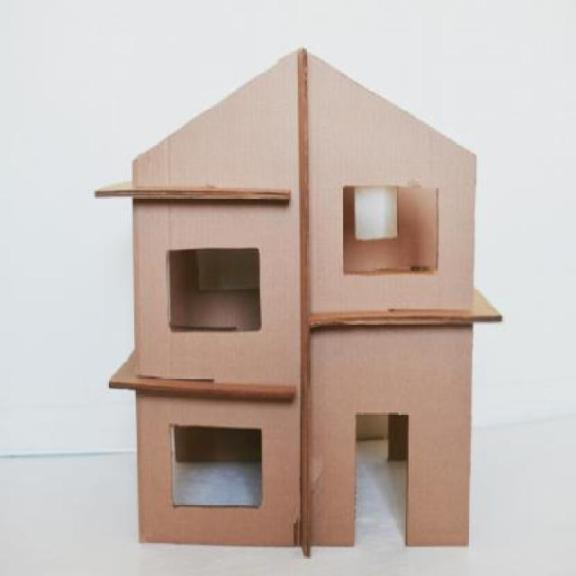Kertas: (90, 40, 509, 558)
